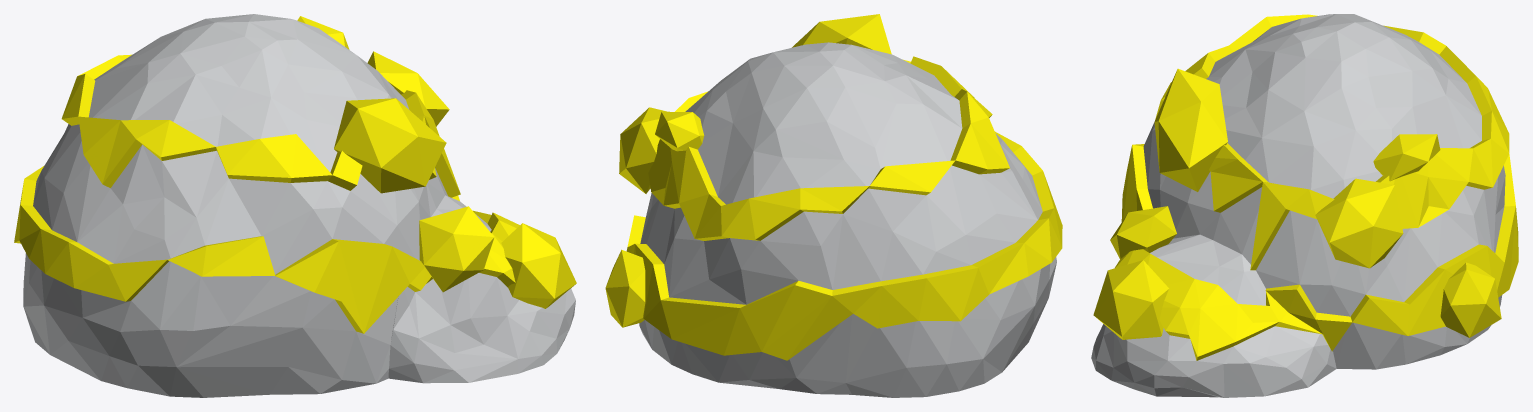
The model's file is GoldOre3.fbx.
The picture shows the model from 3 angles, left to right: view 1: azimuth 30°, elevation 25°; view 2: azimuth 150°, elevation 25°; view 3: azimuth 270°, elevation 25°; orthographic projection. The views are drawn at different scales.
Parts seen in each view (by area): view 1: GoldOre3; view 2: GoldOre3; view 3: GoldOre3.
Boxes of the visible parts, left/top/right/bottom form: GoldOre3: left=14, top=14, right=576, bottom=397; GoldOre3: left=605, top=14, right=1062, bottom=397; GoldOre3: left=1091, top=14, right=1518, bottom=397.
Bounding box in the file's own units: 2.12 × 1.26 × 1.85.
